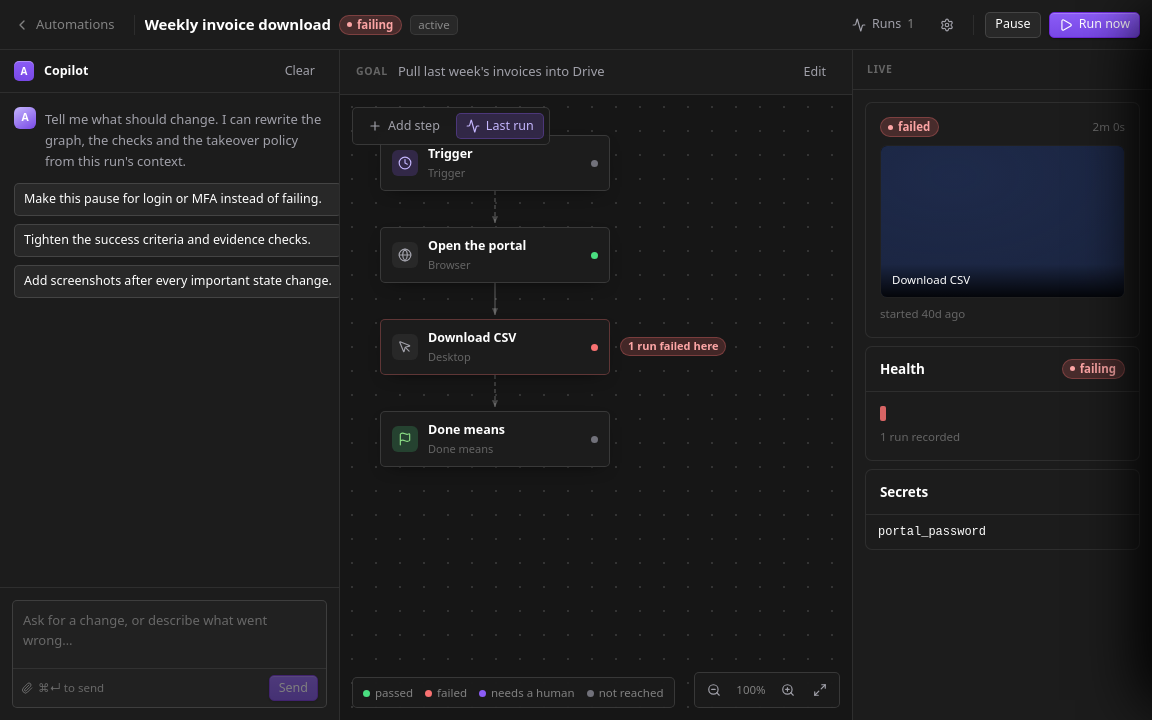
Test case: AutomationWorkspace › opens a node's detail in a modal rather than inline
The image size is (1152, 720).
Expected: the button "Open the portal Browser" is shown, [380,227,610,283]
Click the button "Download CSV Desktop" at (495, 347), box [380,319,610,375]
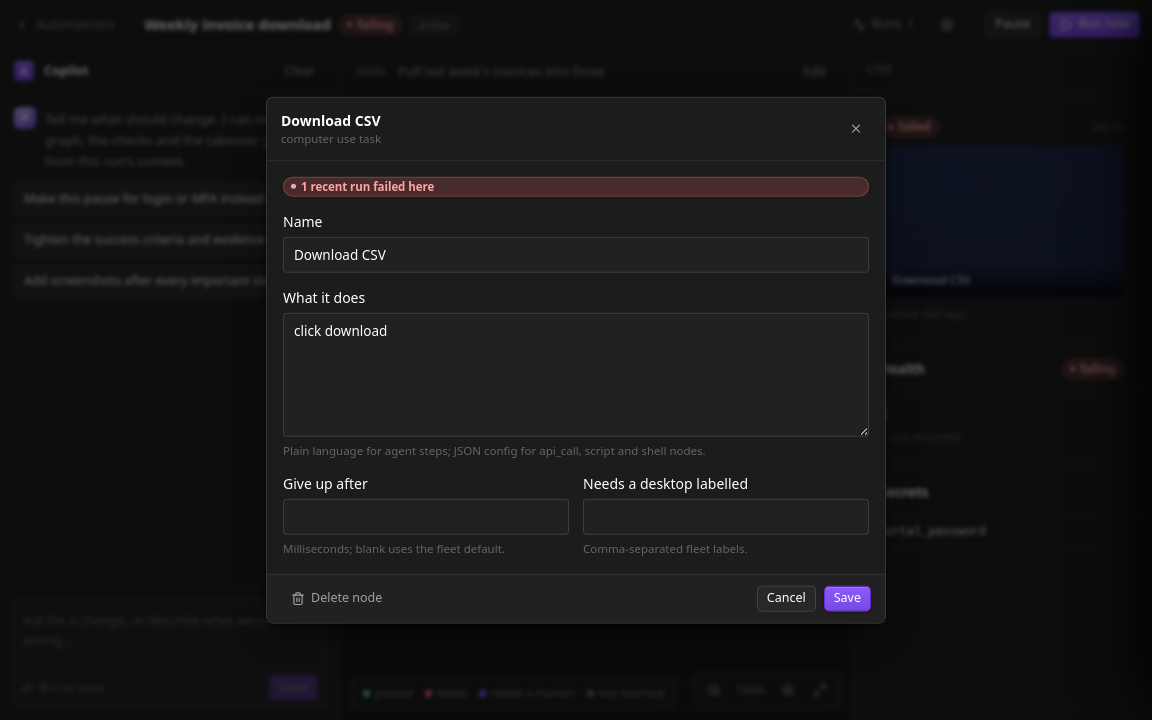
Result: the text box showing "click download" is shown at [283,313,869,437]
Result: the button "Save" is shown at [824,585,871,611]
